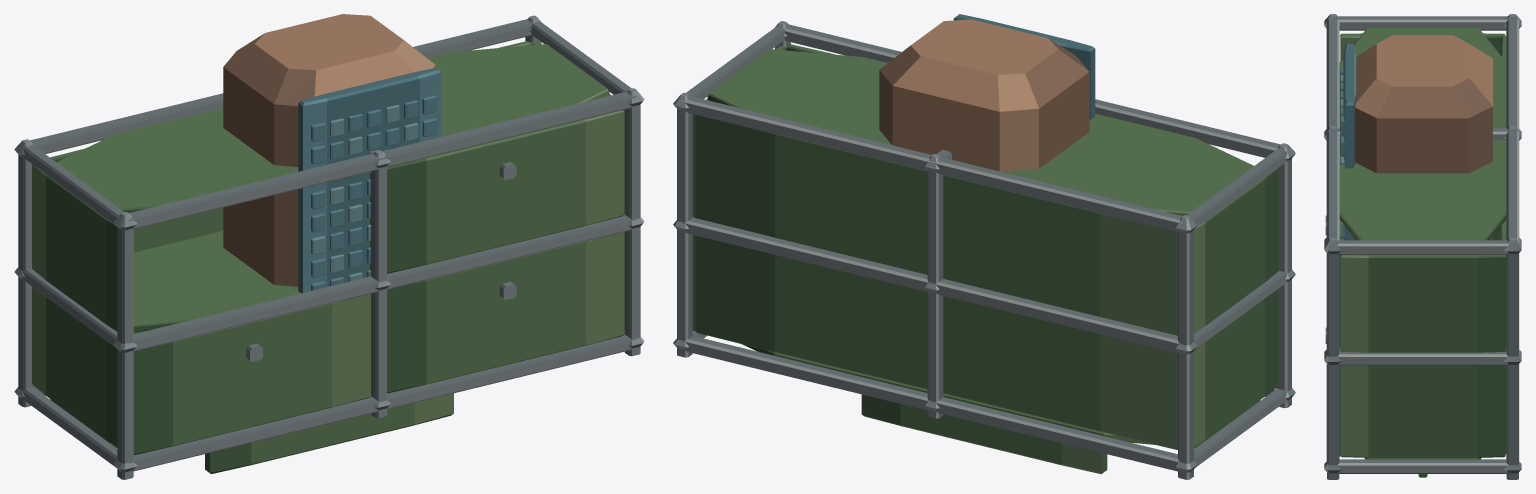
The model's file is audio-v2.glb.
3 views of the same model, side by side, from view 1: azimuth 30°, elevation 25°; view 2: azimuth 150°, elevation 25°; view 3: azimuth 270°, elevation 25° (orthographic). The views are drawn at different scales.
Visible parts, largest first — view 1: BuffetUSM, JBL, TiroirUSM; view 2: BuffetUSM, JBL, TiroirUSM; view 3: BuffetUSM, JBL.
Boxes of the visible parts, x1,y1,x2,y2 form: BuffetUSM: [14, 15, 644, 479]; JBL: [223, 14, 441, 293]; TiroirUSM: [205, 393, 453, 473]; BuffetUSM: [673, 21, 1295, 479]; JBL: [879, 14, 1095, 171]; TiroirUSM: [861, 394, 1107, 474]; BuffetUSM: [1324, 14, 1521, 479]; JBL: [1340, 35, 1492, 240].
Bounding box in the file's own units: 1.53 × 1.12 × 0.55.
